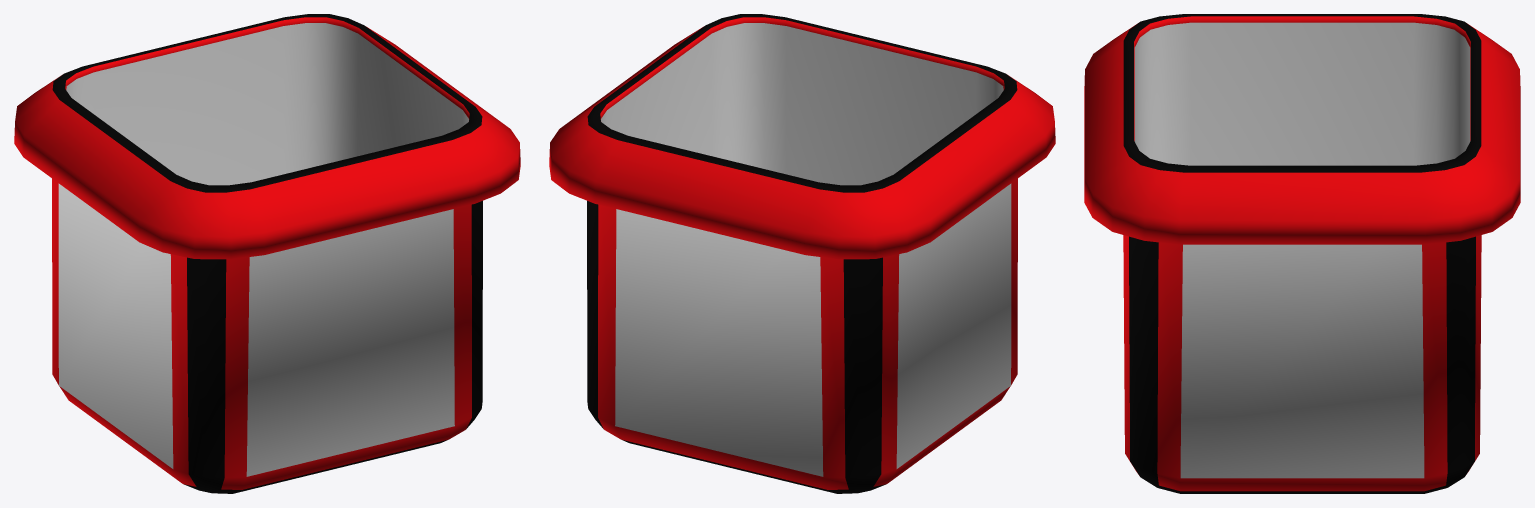
File: BalloonBasket.fbx
3 renders of one model, left to right at view 1: azimuth 30°, elevation 25°; view 2: azimuth 150°, elevation 25°; view 3: azimuth 270°, elevation 25°, orthographic. The views are drawn at different scales.
Parts seen in each view (by area): view 1: Circle; view 2: Circle; view 3: Circle.
Boxes of the visible parts, <box> form: Circle: <box>14,14,520,493</box>; Circle: <box>549,14,1055,493</box>; Circle: <box>1084,14,1520,493</box>.
Bounding box in the file's own units: 121 × 100 × 115.
